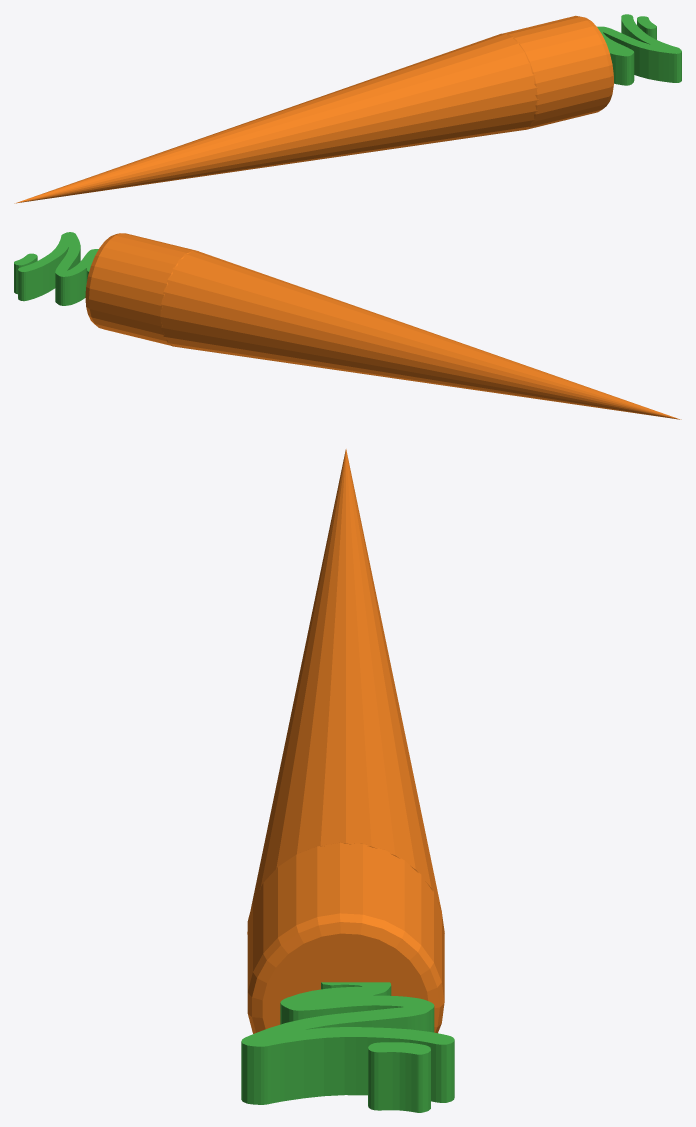
The model's file is carrot top 12.obj.
3 renders of one model, top to bottom at view 1: azimuth 30°, elevation 25°; view 2: azimuth 150°, elevation 25°; view 3: azimuth 270°, elevation 25°, orthographic. The views are drawn at different scales.
Parts seen in each view (by area): view 1: group_0_16089887, group_0_4634441; view 2: group_0_16089887, group_0_4634441; view 3: group_0_16089887, group_0_4634441.
Boxes of the visible parts, x1,y1,x2,y2 form: group_0_16089887: (14, 15, 613, 203); group_0_4634441: (597, 14, 681, 85); group_0_16089887: (85, 233, 681, 419); group_0_4634441: (14, 232, 98, 305); group_0_16089887: (247, 449, 444, 1033); group_0_4634441: (241, 982, 454, 1112).
Size of the model in its own units: 688 by 90.69 by 97.88.
